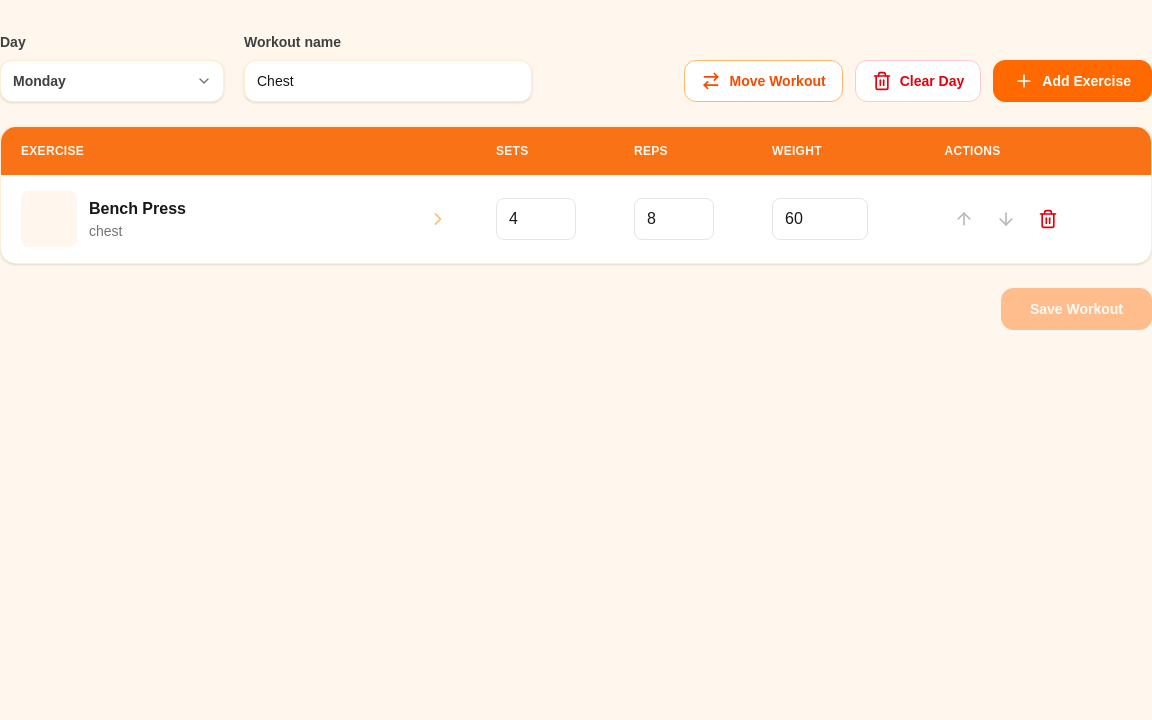
it: WorkoutBuilder persisted actions › clears the selected persisted workout after confirmation
Expected: the text "Bench Press" is shown, [89, 200, 186, 217]
Click the button "Clear Day" at {"x": 918, "y": 81}, box [855, 60, 981, 102]
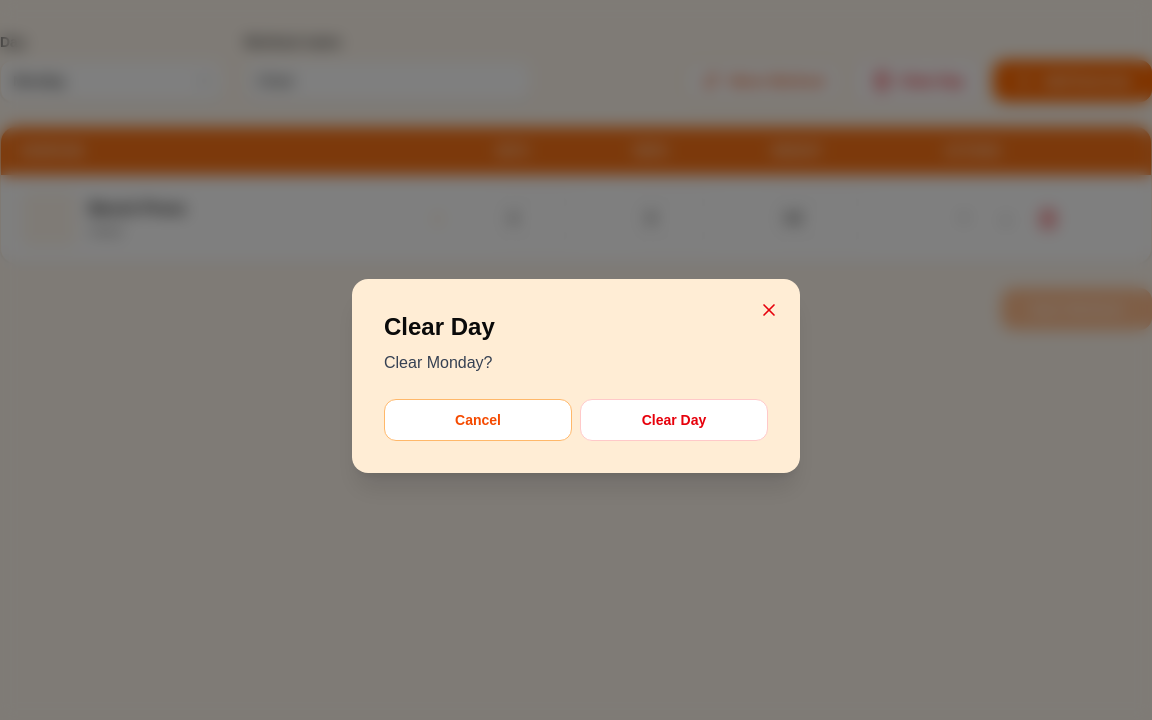
Now the dialog shows "Clear Monday?", box [384, 354, 492, 371]
Click the button "Clear Day" at {"x": 674, "y": 420}, box [580, 399, 768, 441]
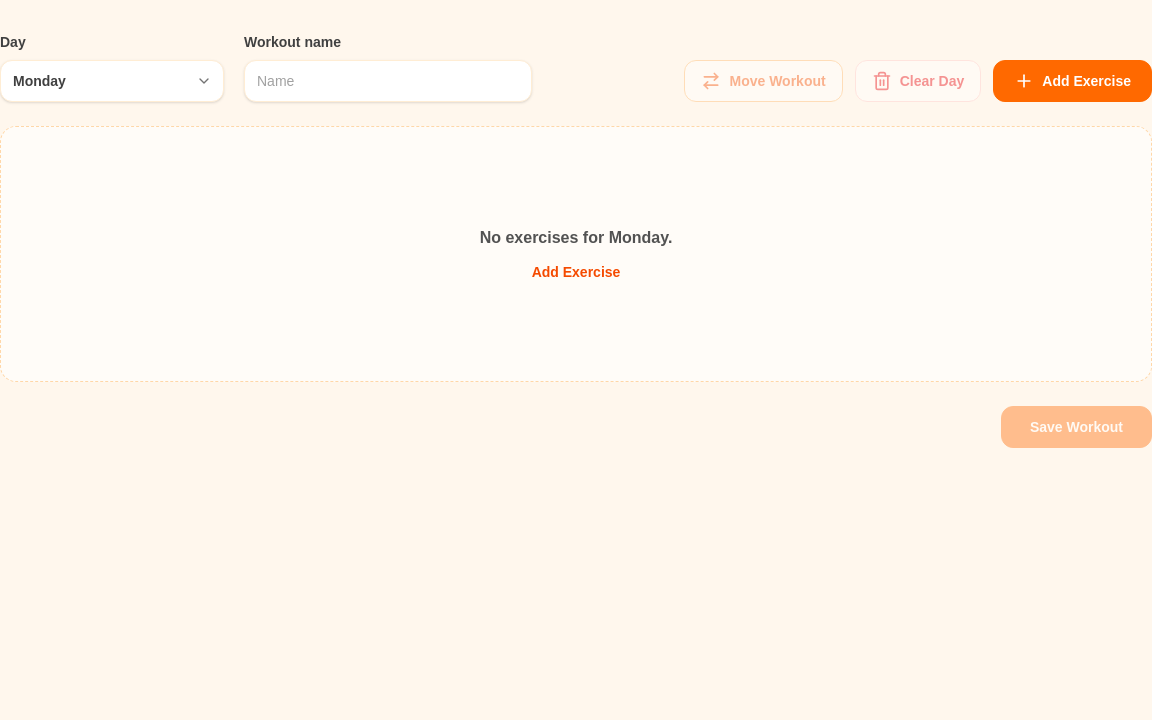
Now the text "No exercises for Monday." is shown, box [480, 226, 672, 250]
